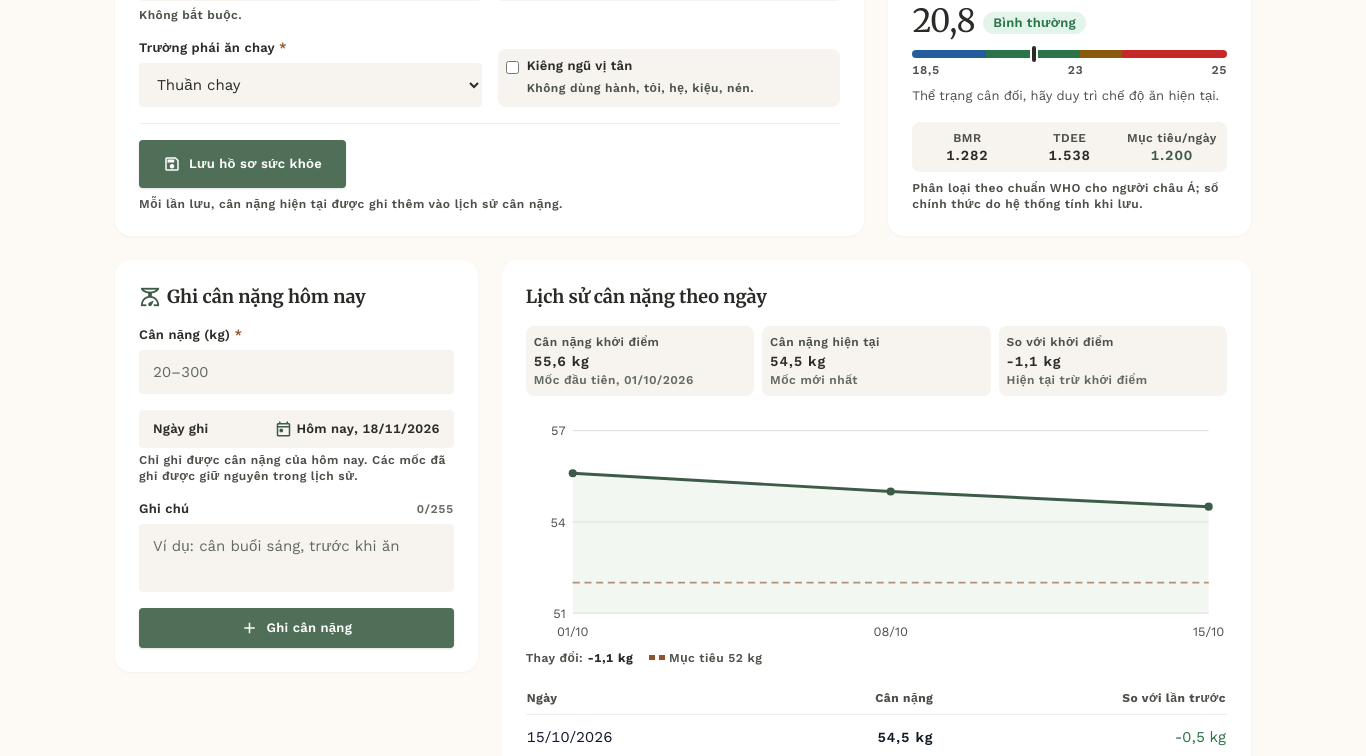
Test: HealthProfile (SCR-08) › Thành viên › ghi cân nặng: sai thì báo ngay, đúng thì POST và làm mới lịch sử
Later steps or results of the test are not shown.
(page scrolled)
In the field labelled "Cân nặng (kg) *": (296, 372) 139,350 -> 454,394, type "400"
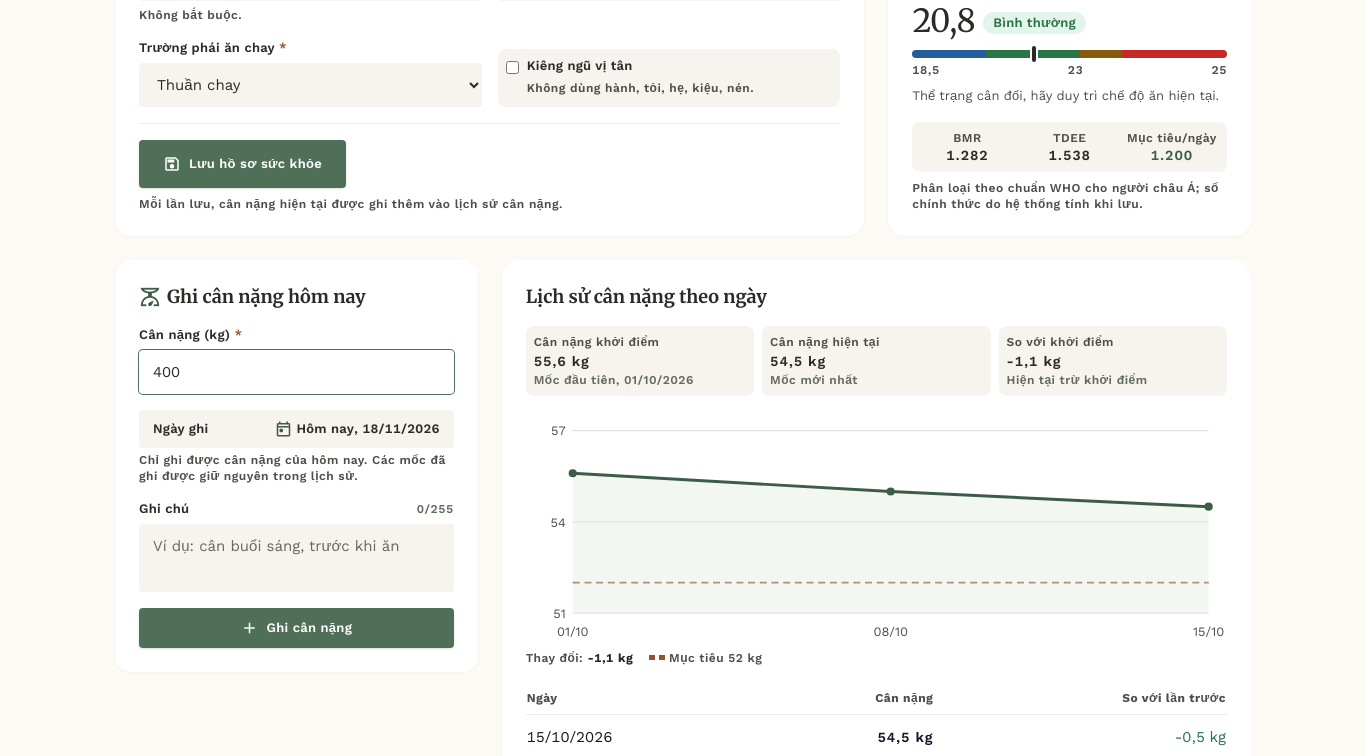
Press Tab
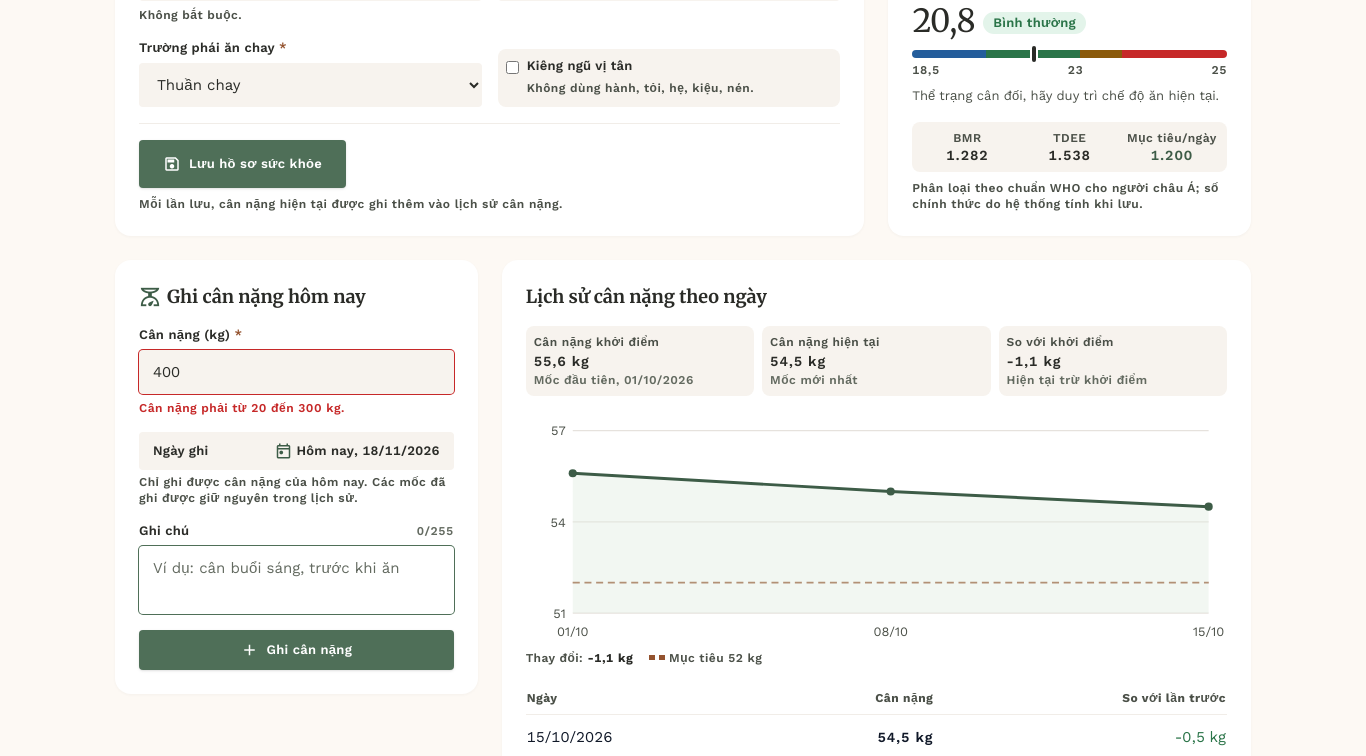
Check: the text "Cân nặng phải từ 20 đến 300 kg." is shown, box 139,401 -> 345,415
